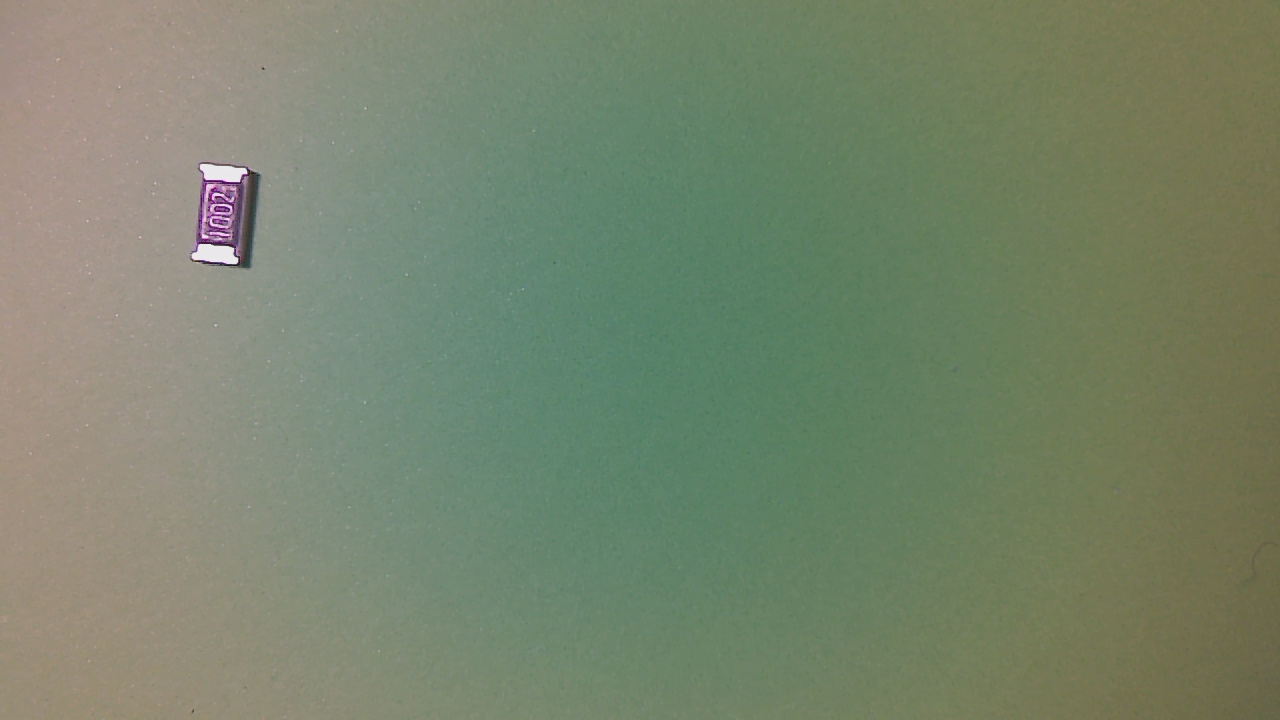Resistor: (197, 161, 267, 277)
